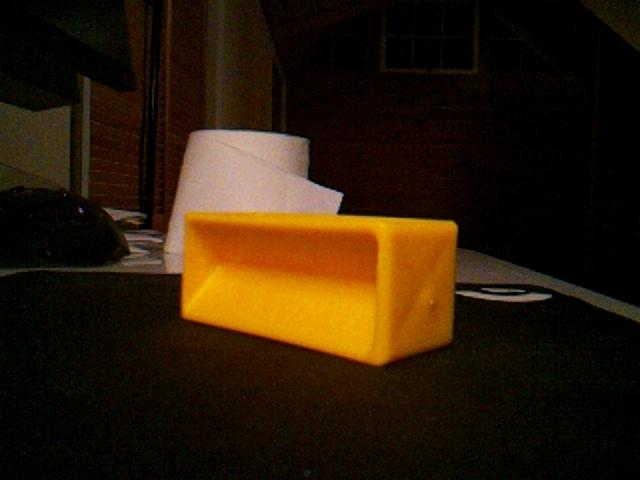yellow: (179, 210, 459, 367)
